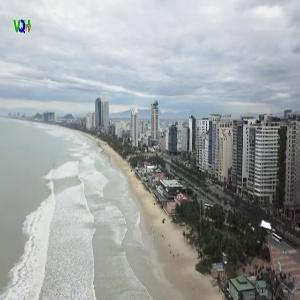drone: (211, 178, 294, 261)
